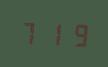nine: (65, 20, 87, 48)
one: (42, 19, 64, 47)
seven: (18, 18, 40, 46)
